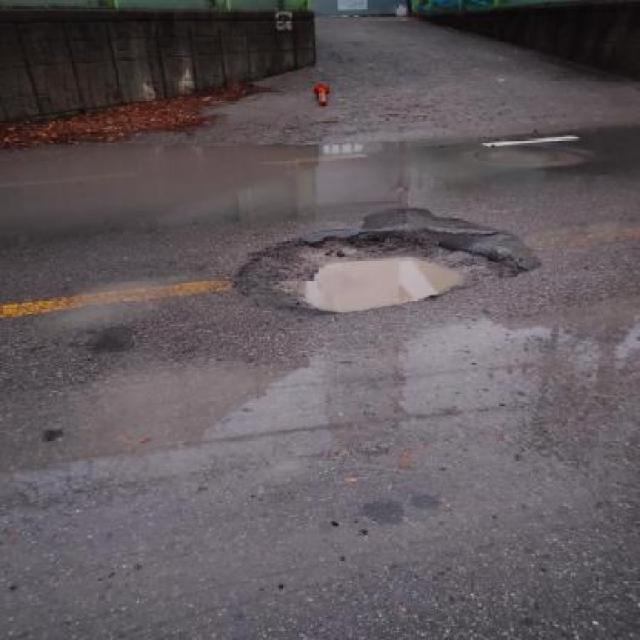pothole: (232, 232, 528, 320)
